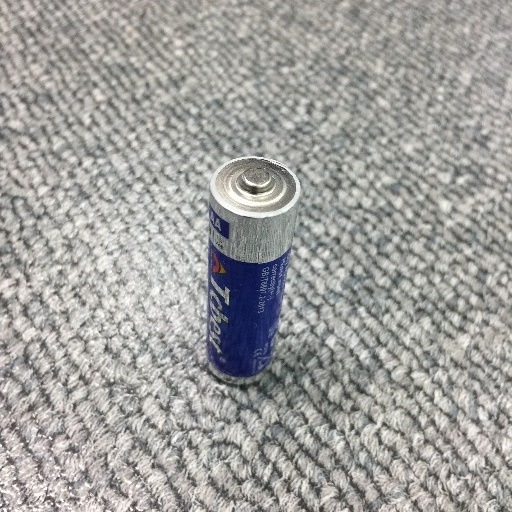Battery_0: (189, 140, 317, 407)
